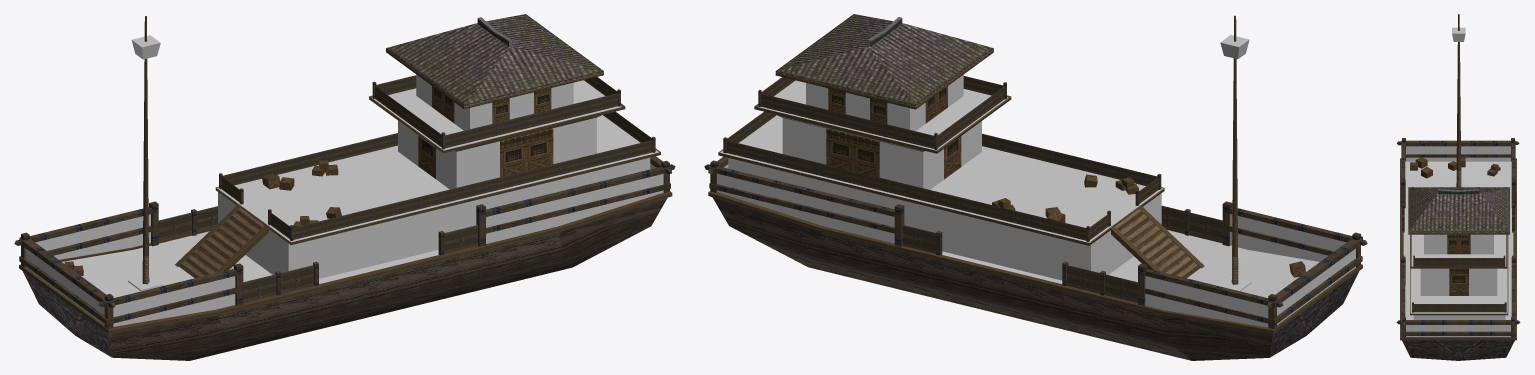
The model's file is zhanchuan_41.FBX.
The picture shows the model from 3 angles, left to right: view 1: azimuth 30°, elevation 25°; view 2: azimuth 150°, elevation 25°; view 3: azimuth 270°, elevation 25°; orthographic projection. The views are drawn at different scales.
Parts seen in each view (by area): view 1: zhanchuan_41; view 2: zhanchuan_41; view 3: zhanchuan_41.
Boxes of the visible parts, x1,y1,x2,y2 form: zhanchuan_41: (14, 14, 675, 360); zhanchuan_41: (704, 14, 1367, 360); zhanchuan_41: (1396, 14, 1520, 360).
Size of what is drawn, in the model's own units: 7551 by 4181 by 2154.
